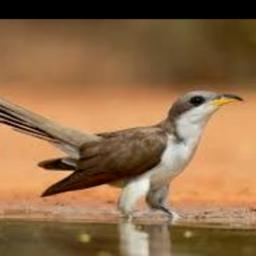Cuckoo: (0, 82, 244, 220)
